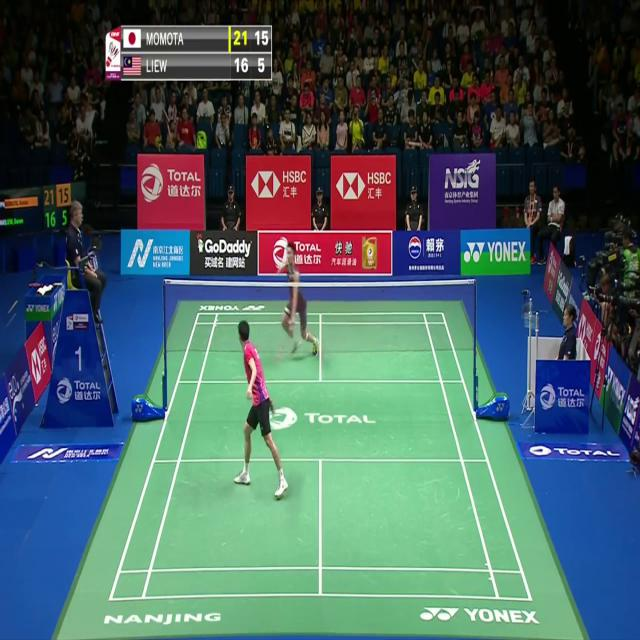Shuttlecock: (199, 240, 205, 252)
